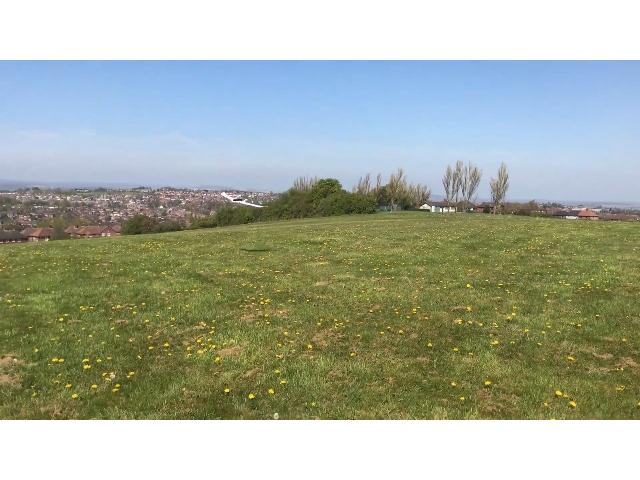Anti-Drone: (211, 188, 271, 217)
